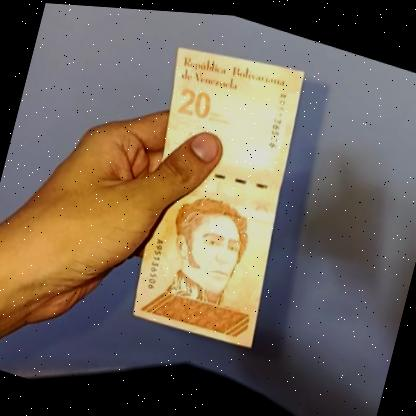twenty-front-vef: (112, 26, 319, 354)
